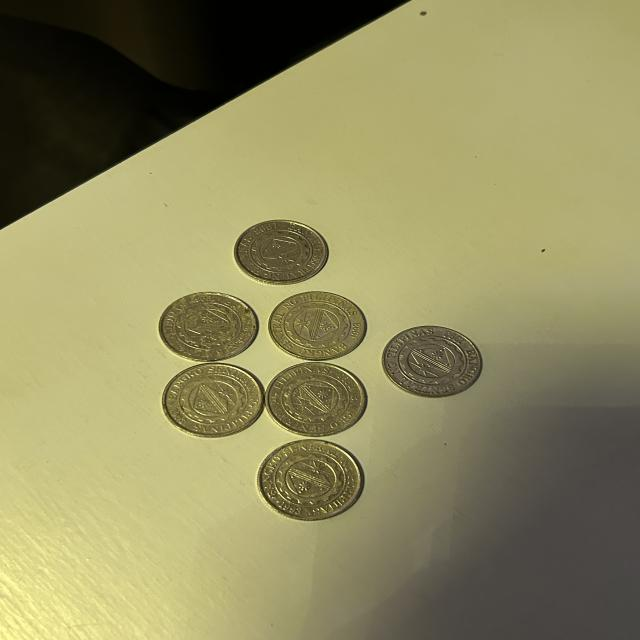1_Old_Back: (274, 370, 357, 428), (392, 334, 472, 392), (269, 452, 346, 508), (171, 374, 249, 427), (280, 298, 356, 351), (170, 301, 247, 349), (242, 226, 314, 277)
